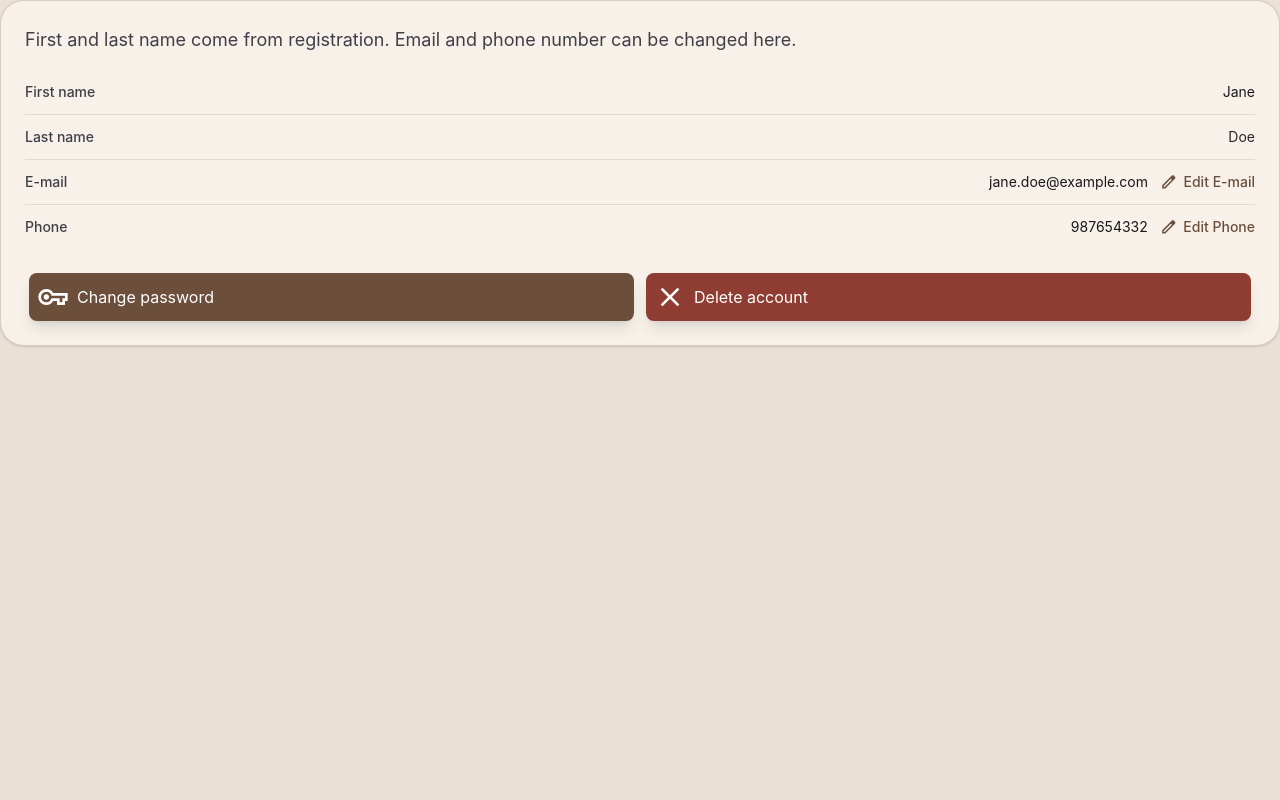
Profile form › keeps an invalid email in the popup
Check: the text "Jane" is shown, box x1=1223 y1=83 x2=1255 y2=100
Click the button "Edit E-mail" at [1207, 182], box x1=1160 y1=172 x2=1255 y2=192
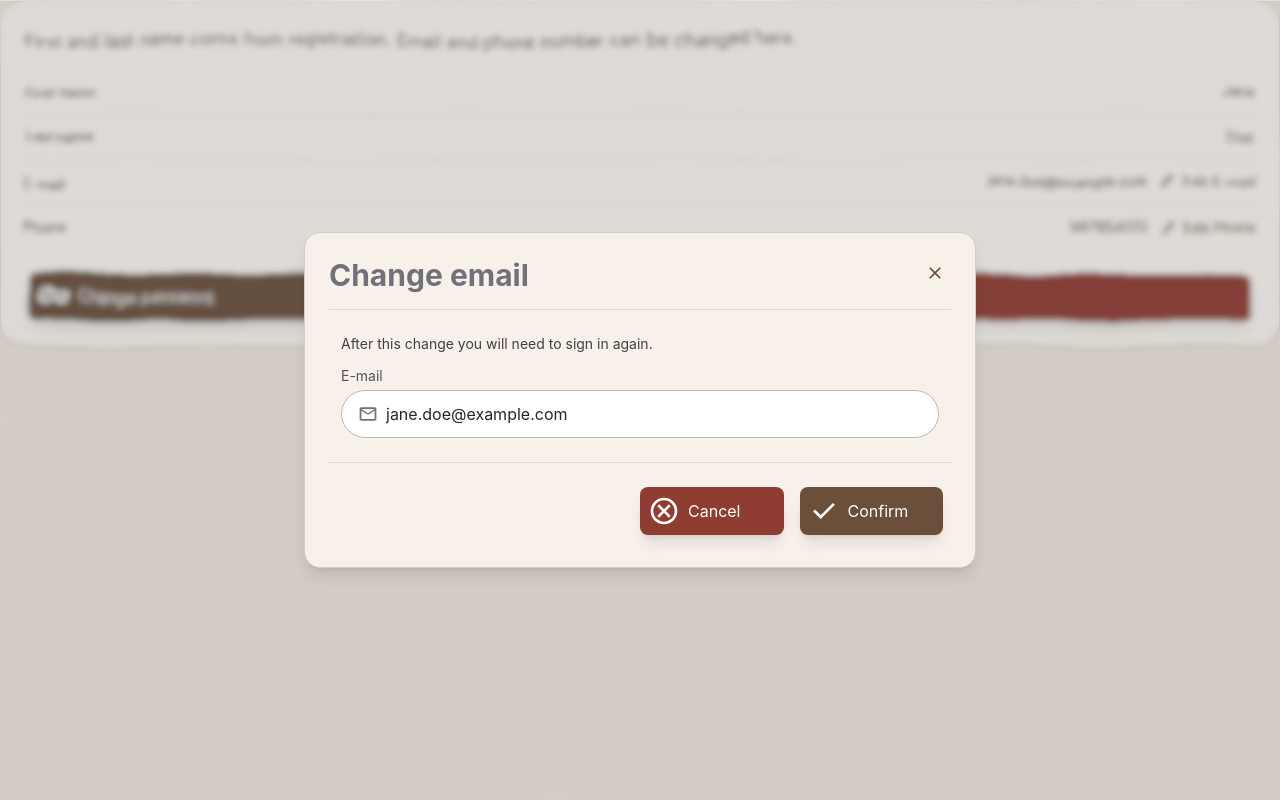
Replace the text in the field labelled "E-mail" with "not-an-email" at [654, 414], box x1=386 y1=402 x2=922 y2=426
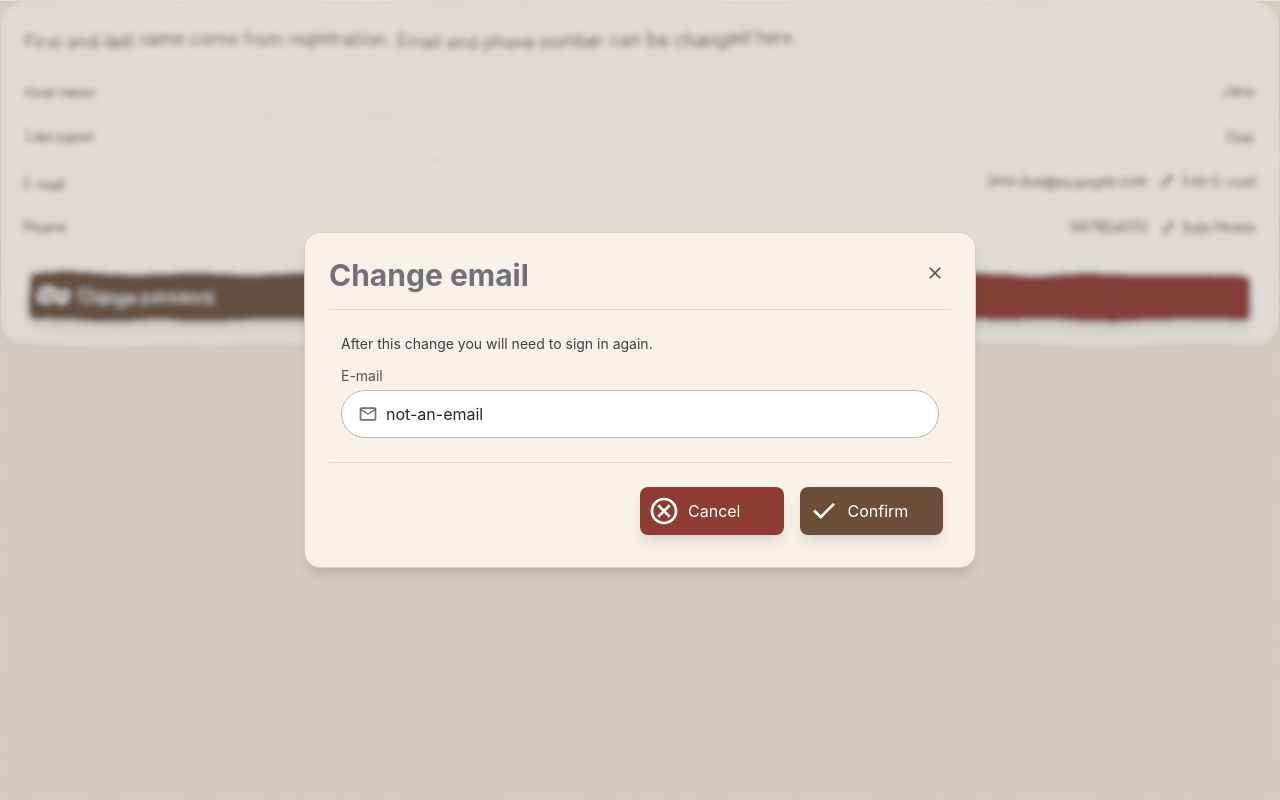
Click the button "Confirm" at [871, 511], box x1=800 y1=487 x2=943 y2=535
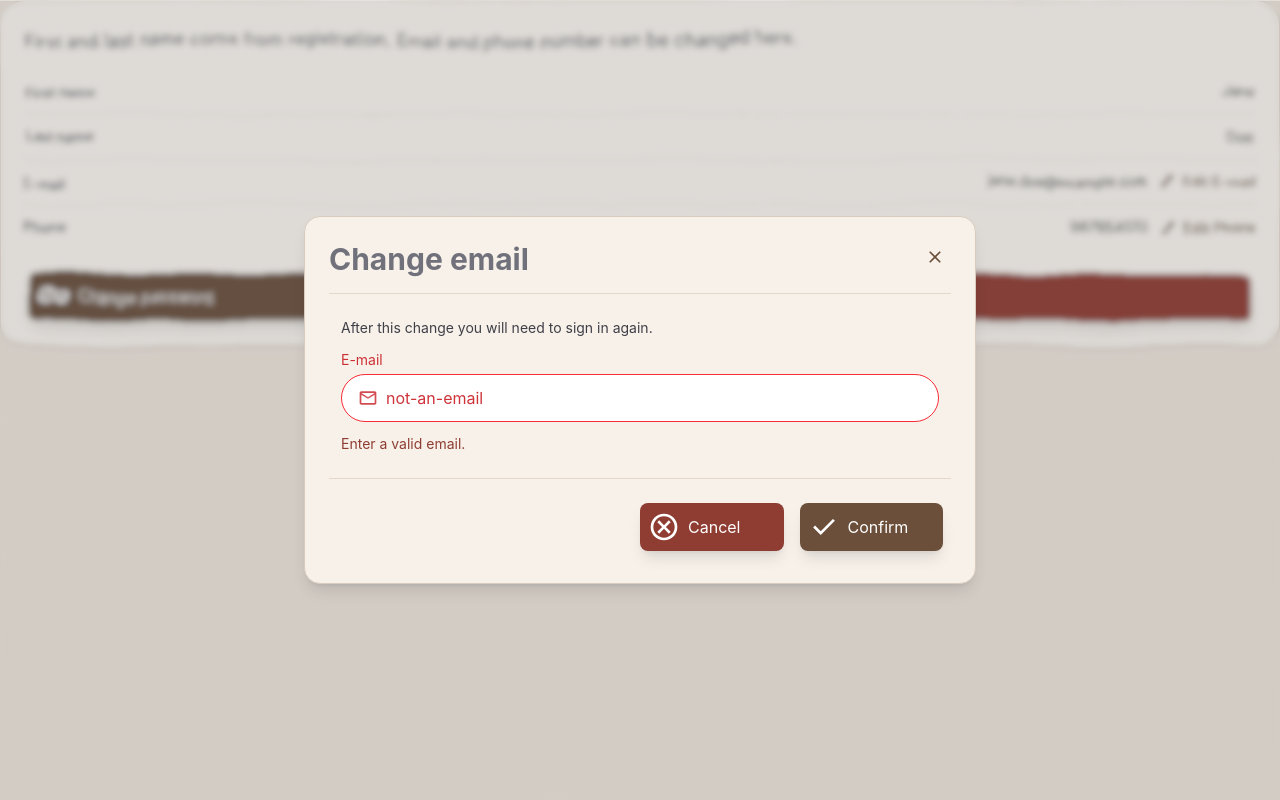
Check: the message reads "Enter a valid email.", box x1=341 y1=435 x2=465 y2=452
